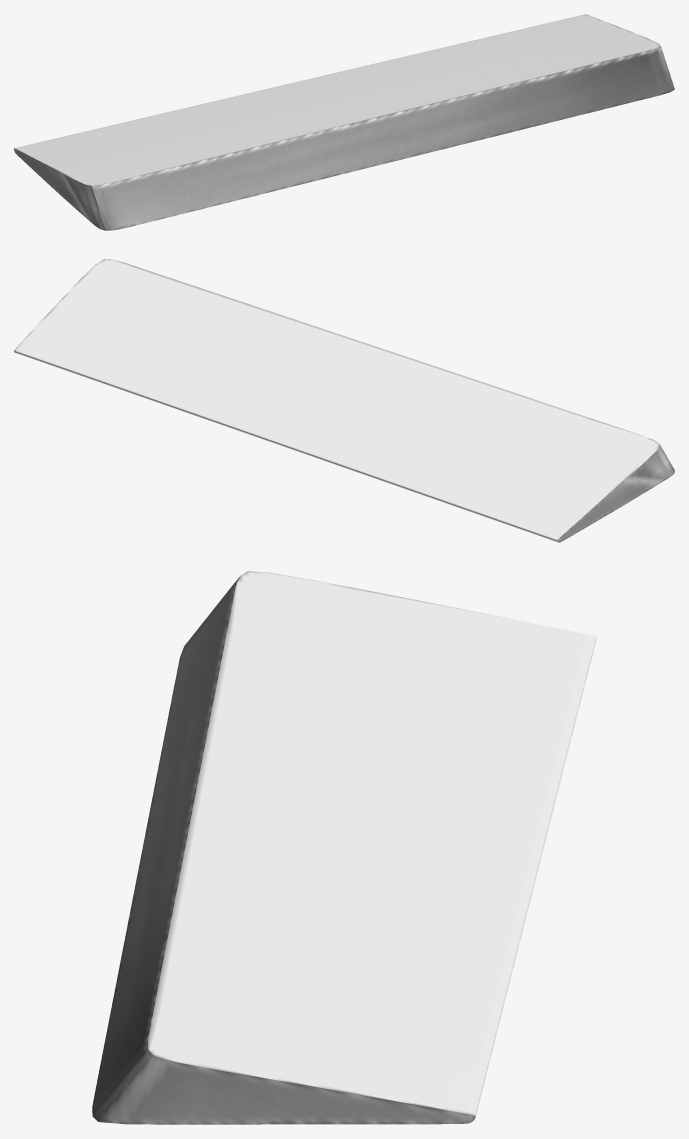
Rendered from leftWing.obj.
The picture shows the model from 3 angles, top to bottom: view 1: azimuth 30°, elevation 25°; view 2: azimuth 150°, elevation 25°; view 3: azimuth 270°, elevation 25°; orthographic projection. The views are drawn at different scales.
Parts seen in each view (by area): view 1: Cessna172; view 2: Cessna172; view 3: Cessna172.
Part boxes in pixels (x1,y1,x2,y2): Cessna172: (14, 14, 674, 230); Cessna172: (14, 259, 674, 542); Cessna172: (92, 571, 596, 1124).
Size of the model in its own units: 5.22 by 0.5292 by 2.06.
1 material, 1 textured.
